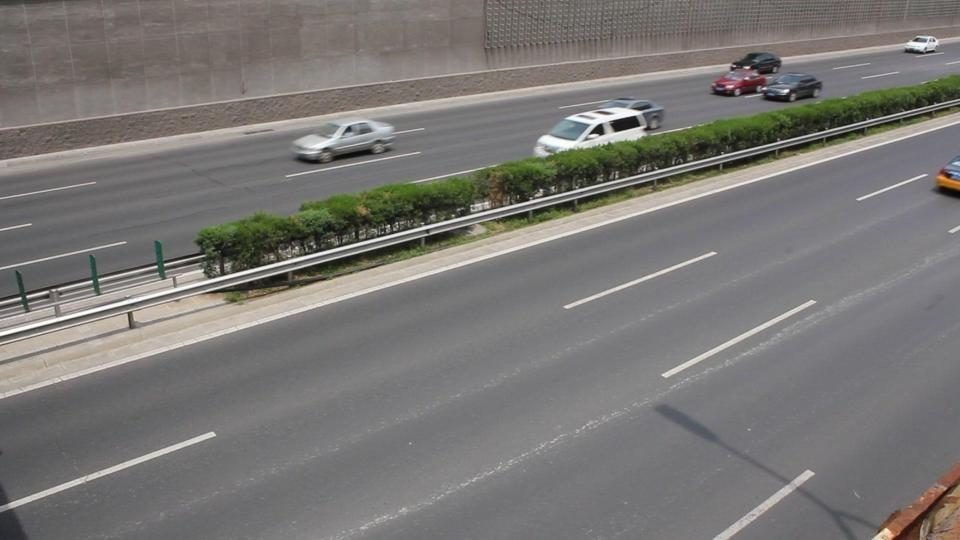car: (532, 97, 666, 158), (290, 119, 396, 164), (762, 72, 823, 103), (710, 68, 769, 97), (732, 51, 782, 74), (934, 155, 960, 196), (904, 34, 939, 54)
